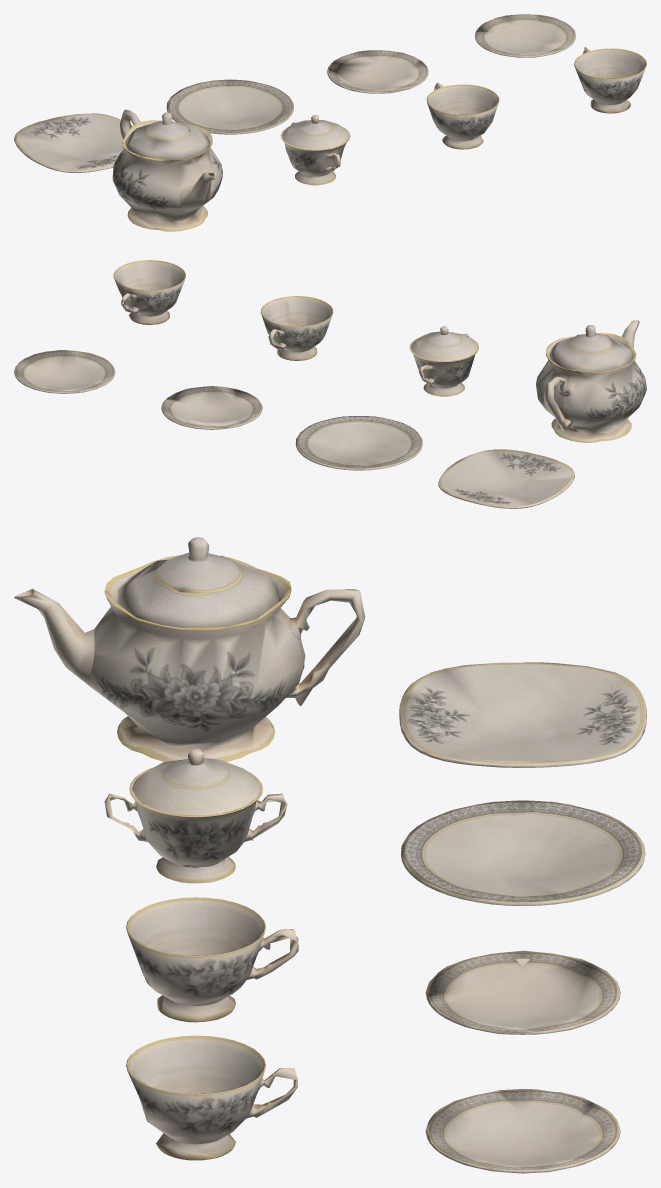
File: TeaSetMugs.obj
The picture shows the model from 3 angles, top to bottom: view 1: azimuth 30°, elevation 25°; view 2: azimuth 150°, elevation 25°; view 3: azimuth 270°, elevation 25°; orthographic projection. The views are drawn at different scales.
Parts seen in each view (by area): view 1: Ceramic; view 2: Ceramic; view 3: Ceramic.
Part boxes in pixels (left/top/right/bottom): Ceramic: left=14, top=14, right=646, bottom=231; Ceramic: left=14, top=260, right=646, bottom=508; Ceramic: left=14, top=537, right=646, bottom=1173.
Bounding box in the file's own units: 0.9182 × 0.1649 × 0.4838.
1 material, 1 textured.
